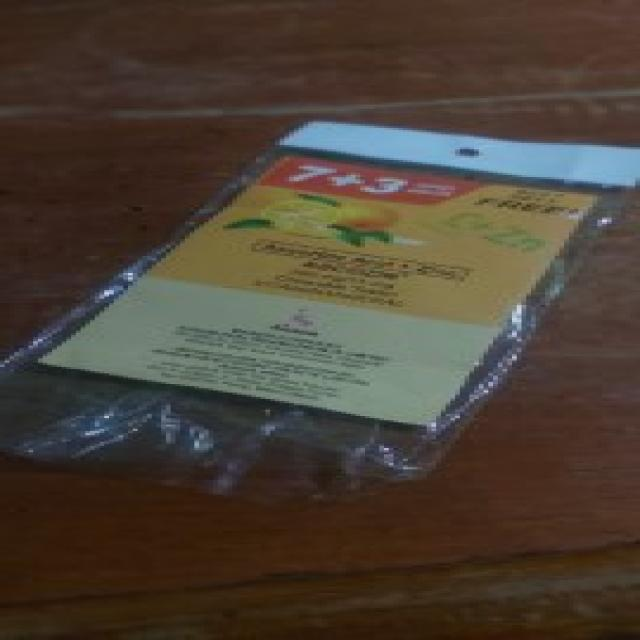Cacat: (0, 120, 619, 498)
